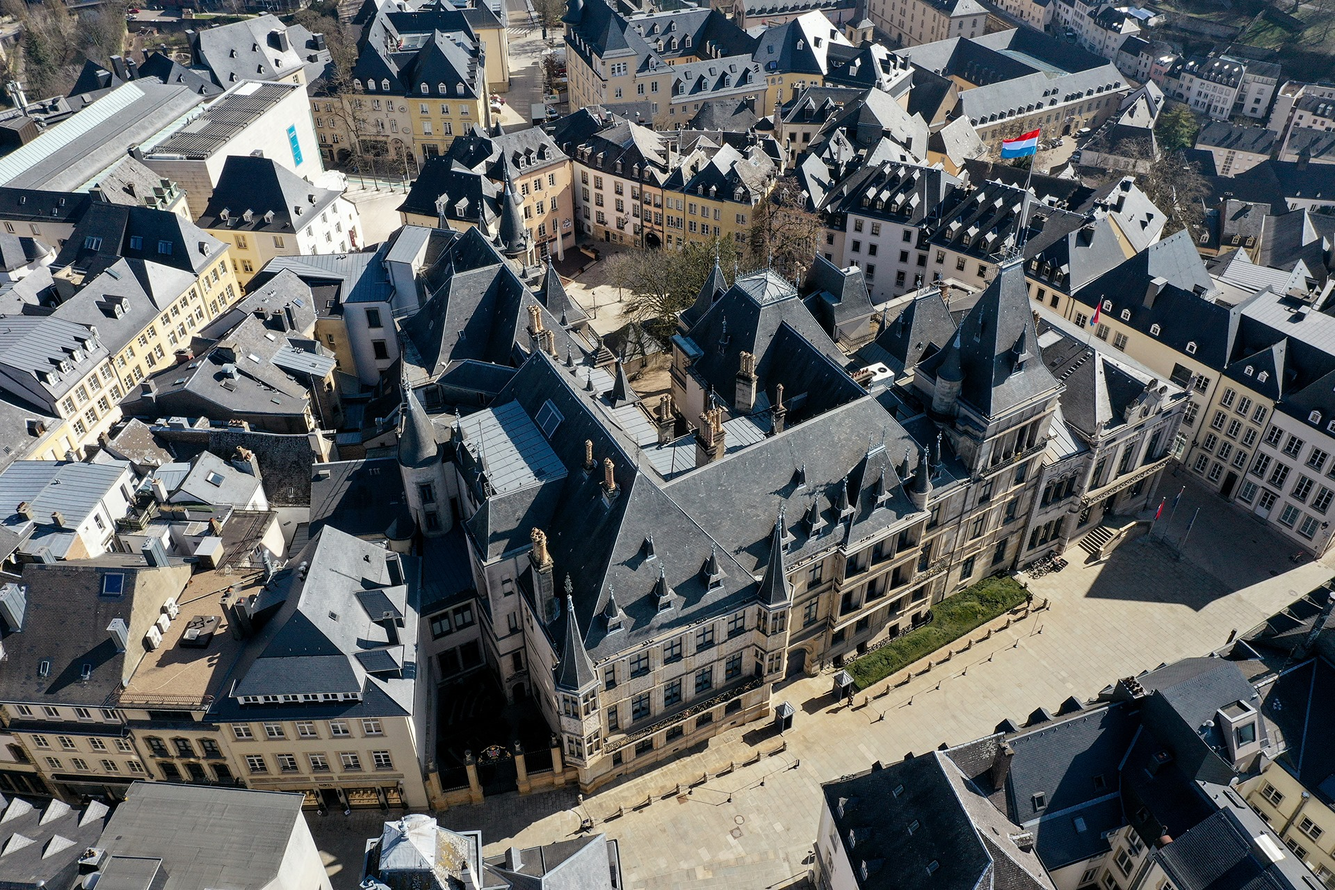Videoprojecteur: (780, 525, 968, 785)
